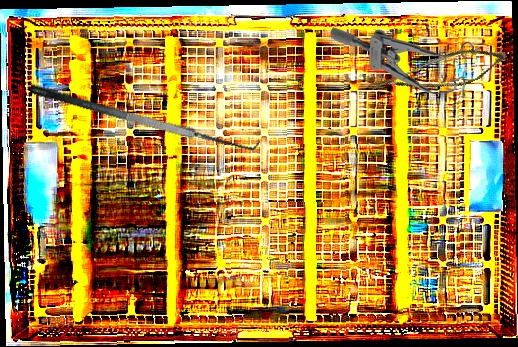Micro Scissor: (366, 27, 511, 122)
Spatula Surgical: (28, 64, 263, 164)
Speculum: (328, 27, 482, 98)
